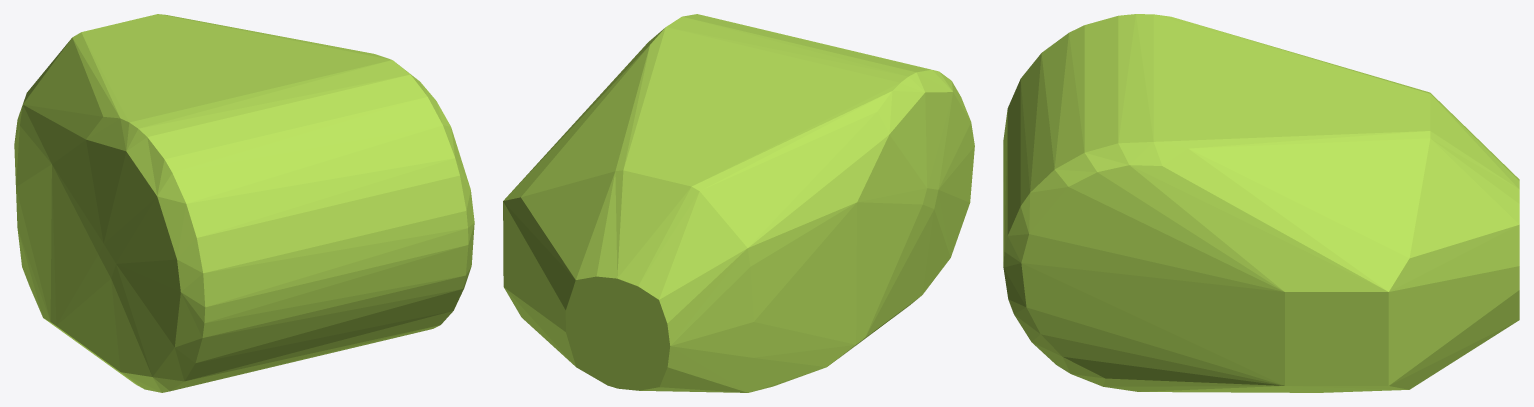
File: niryo_one_Link_2_coll_3.dae
3 views of the same model, side by side, from view 1: azimuth 30°, elevation 25°; view 2: azimuth 150°, elevation 25°; view 3: azimuth 270°, elevation 25° (orthographic). The views are drawn at different scales.
Visible parts, largest first — view 1: Node_00000276BF537550; view 2: Node_00000276BF537550; view 3: Node_00000276BF537550.
Part boxes in pixels (x1,y1,x2,y2): Node_00000276BF537550: (14,14,474,392); Node_00000276BF537550: (503,14,974,392); Node_00000276BF537550: (1003,14,1519,392).
Bounding box in the file's own units: 0.1156 × 0.0808 × 0.149.
